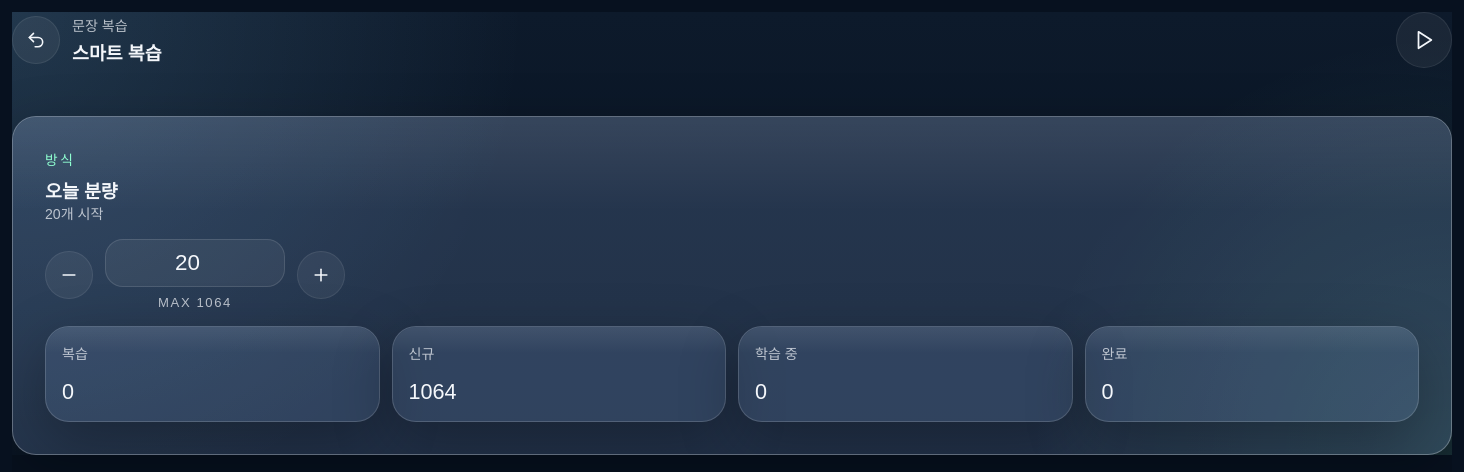
it: SmartReviewSetupPage › uses 20 as the default count and stores the last chosen count
This screenshot has width=1464, height=472.
Expected: the number field holds "20", [105, 239, 285, 287]
Click the button named "5개 늘리기".
click(321, 274)  # box [297, 250, 345, 298]
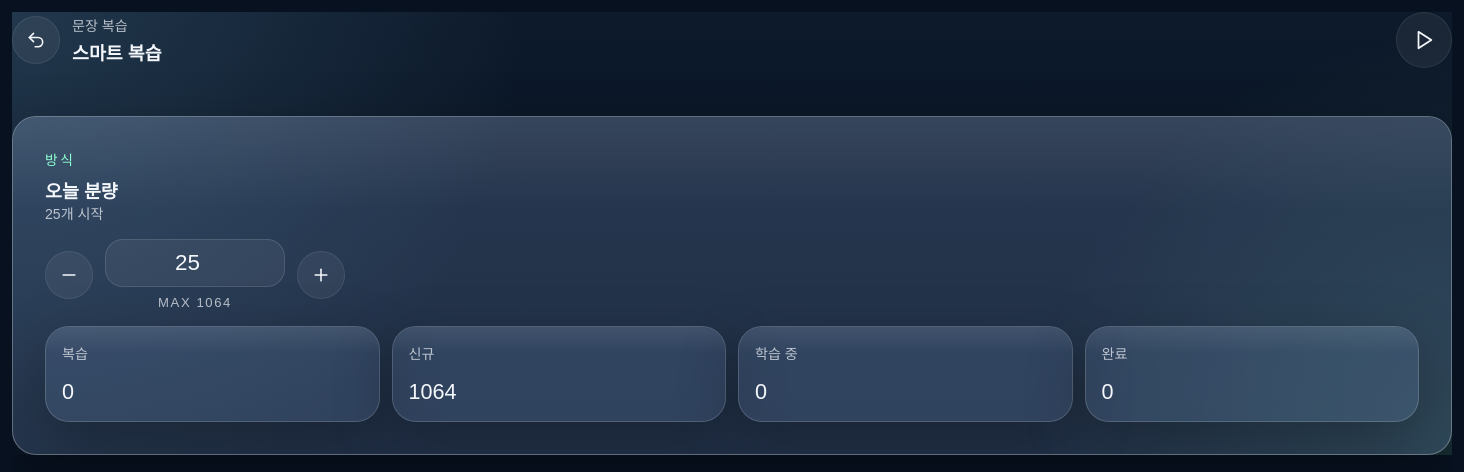
Now the number field holds "25", box [105, 239, 285, 287]
